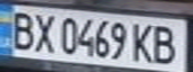0: (54, 14, 78, 56)
4: (75, 16, 96, 57)
6: (93, 17, 112, 60)
9: (109, 18, 133, 61)
B: (148, 21, 184, 65), (6, 8, 36, 52)
K: (127, 20, 157, 64)
X: (30, 10, 57, 54)
